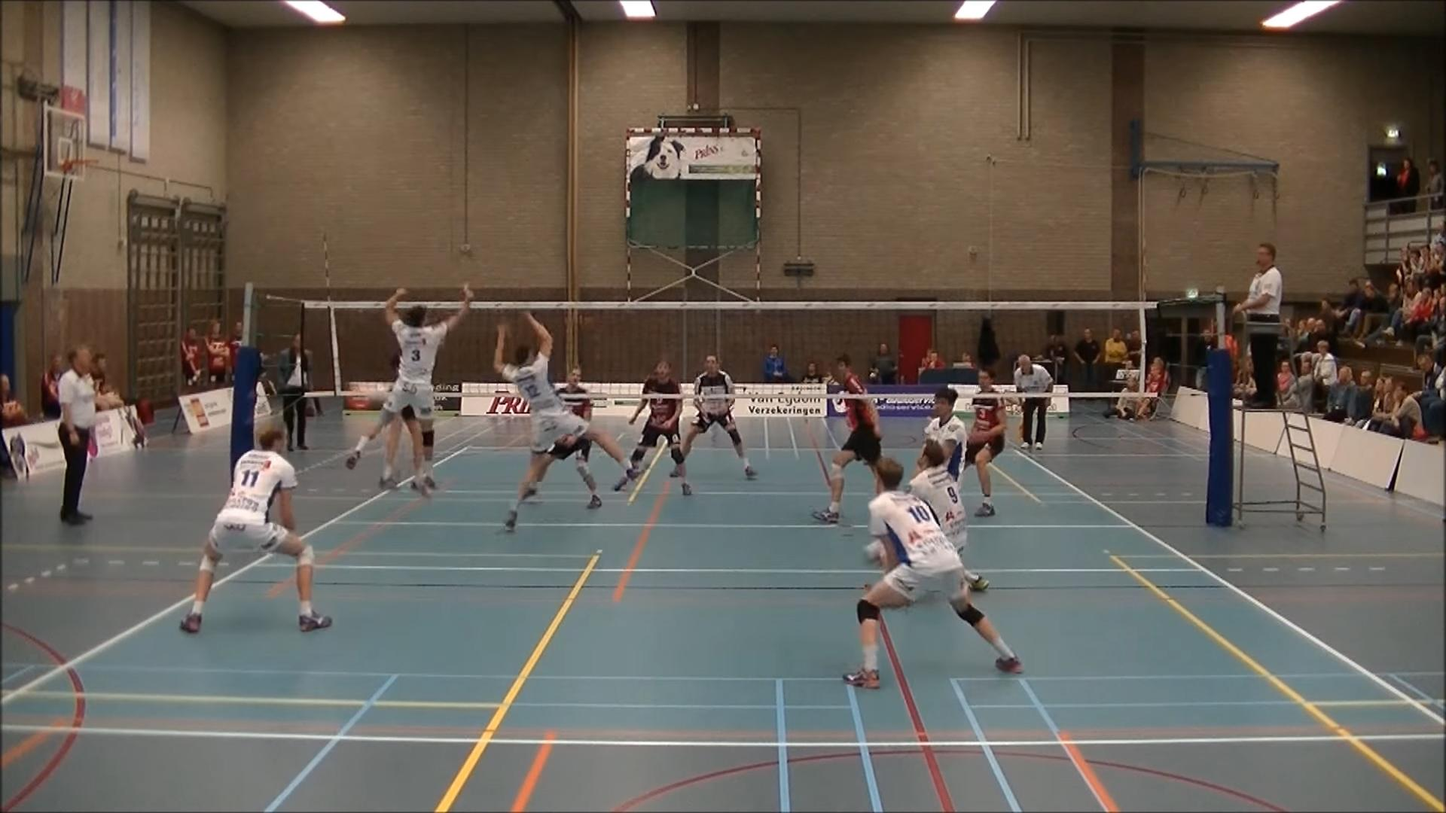muro: (363, 277, 483, 498)
